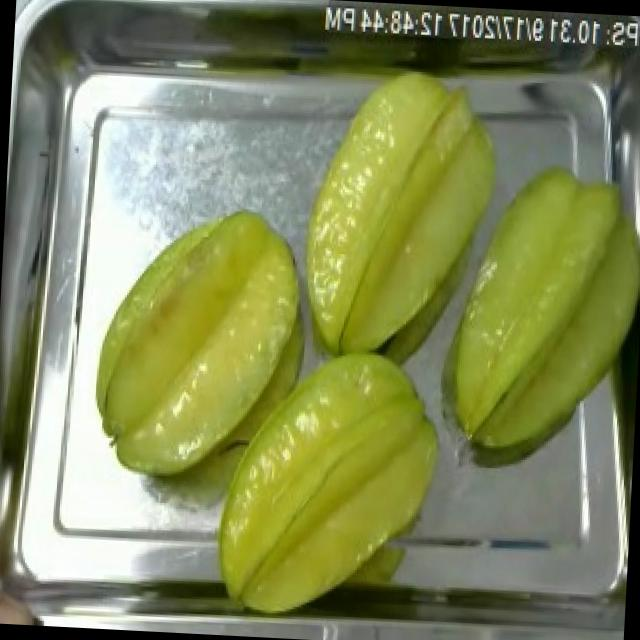fruit: (202, 330, 459, 634), (288, 56, 520, 377), (83, 197, 322, 498), (428, 145, 640, 483)
